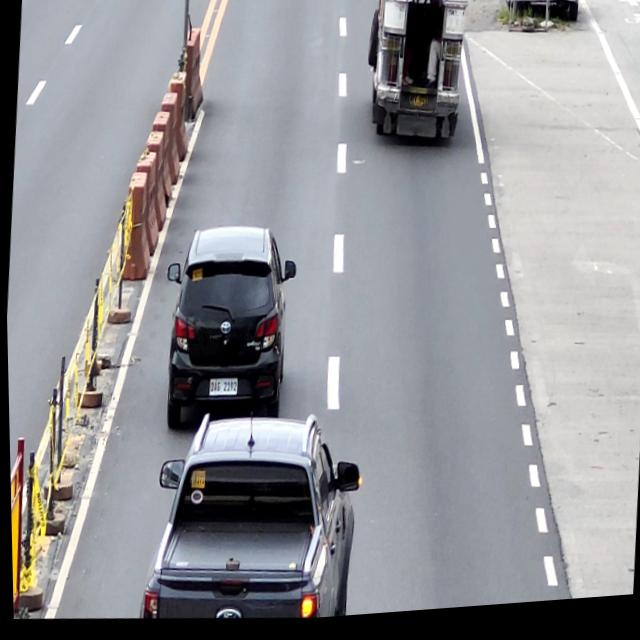Car: (130, 402, 364, 633), (155, 222, 299, 444)
Jeep: (360, 0, 474, 155)
License-Plate: (205, 379, 237, 402), (404, 97, 428, 114)
